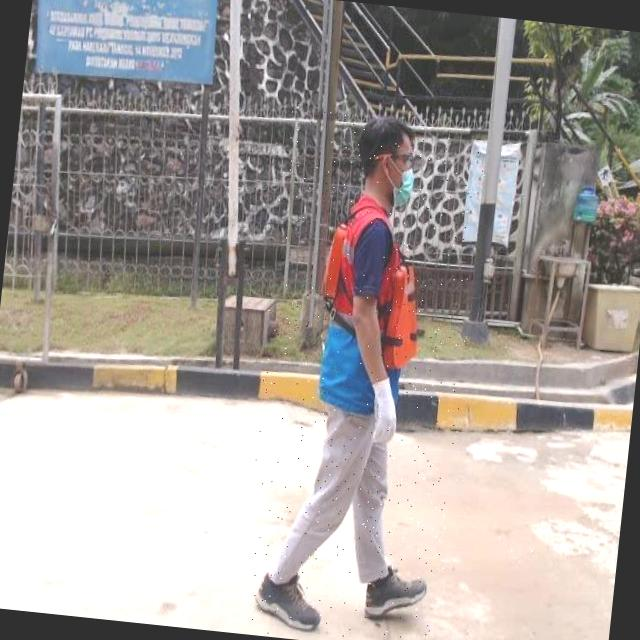boots: (250, 565, 329, 639), (361, 560, 433, 627)
gloves: (348, 365, 417, 468)
no-helmet: (336, 104, 438, 226)
vest: (310, 190, 437, 420)
